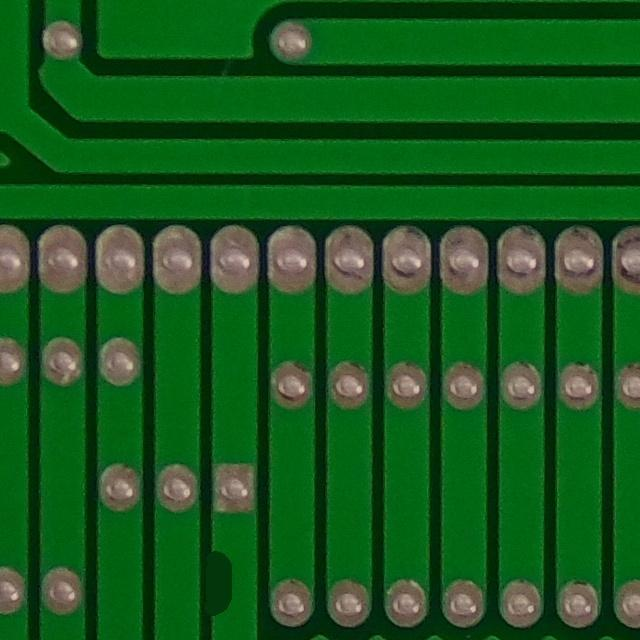mouse_bite: (195, 541, 253, 626)
